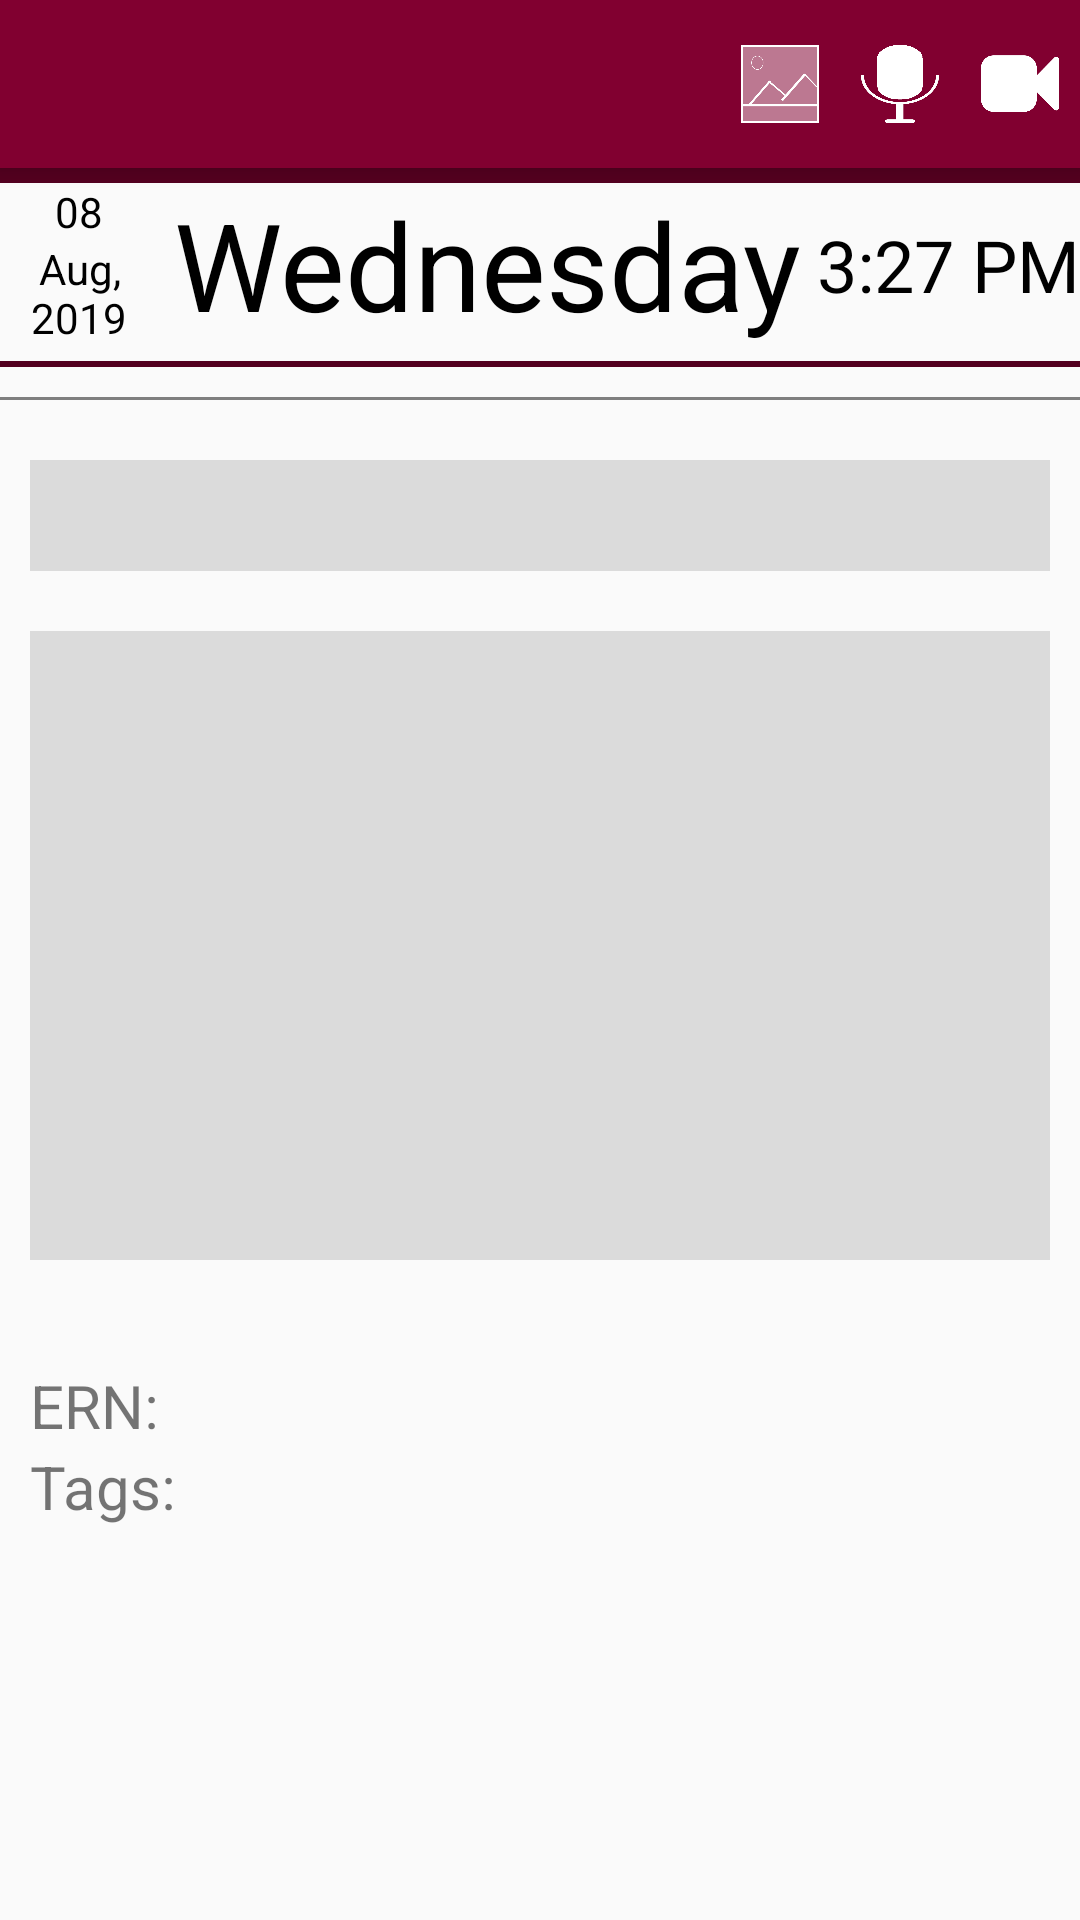

Named icons in this screenshot (1080 x 1920) and their bounding boxes, (x1, y1, x2, y2):
photo record: (741, 45, 819, 123)
record audio: (861, 45, 939, 123)
video record: (981, 55, 1059, 112)
